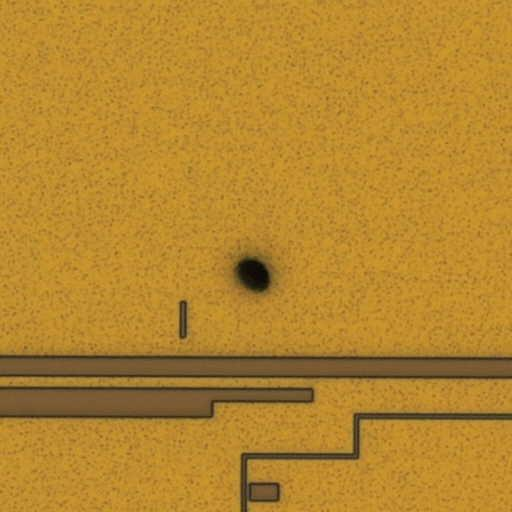PIQ PARTICLE: (224, 243, 284, 303)
